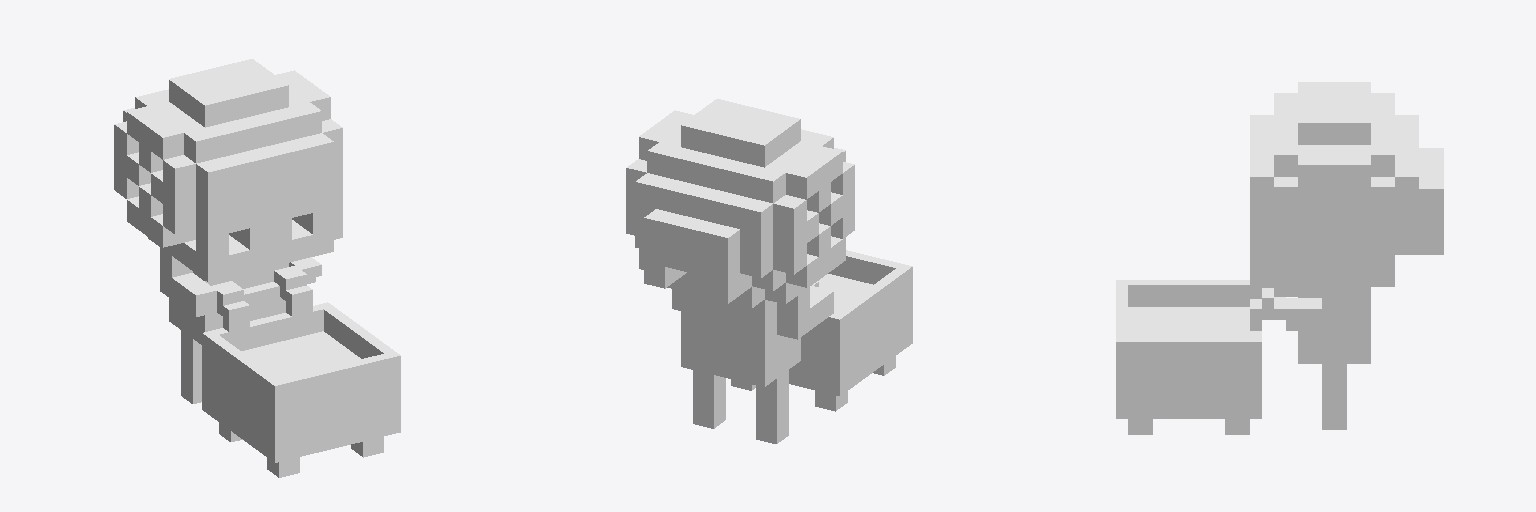
File: ArmedMinerWithCart.obj
The picture shows the model from 3 angles: view 1: azimuth 30°, elevation 25°; view 2: azimuth 150°, elevation 25°; view 3: azimuth 270°, elevation 25°; orthographic projection.
Size of the model in its own units: 16 by 28 by 27.